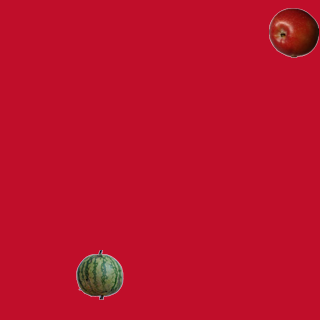Apple Braeburn: (268, 7, 318, 57)
Watermelon: (74, 249, 124, 299)
